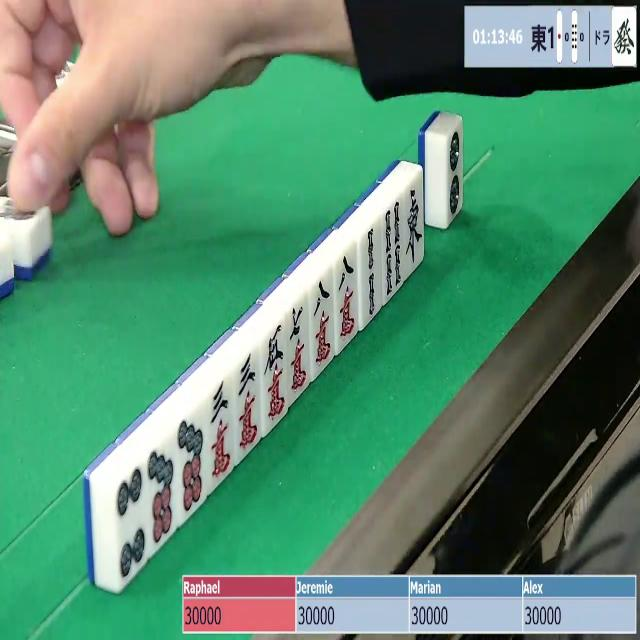east: (403, 184, 424, 276)
fa: (614, 9, 637, 64)
m3: (235, 348, 262, 457), (208, 376, 234, 486)
m5: (263, 322, 288, 427)
m7: (286, 302, 310, 398)
m8: (312, 276, 338, 373), (337, 249, 361, 347)
s2: (360, 227, 382, 325)
s3: (446, 122, 464, 222)
s4: (382, 199, 404, 302)
t4: (116, 461, 149, 585)
t7: (146, 439, 176, 554), (176, 410, 206, 522)
